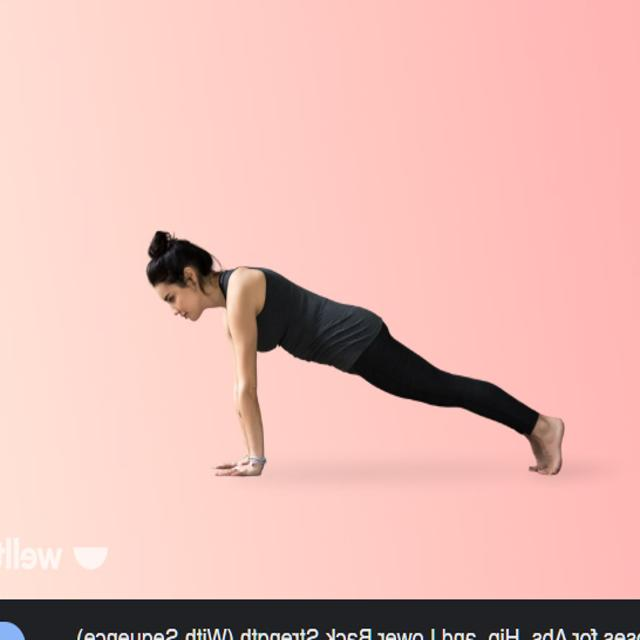Plank_Pose: (143, 223, 579, 482)
